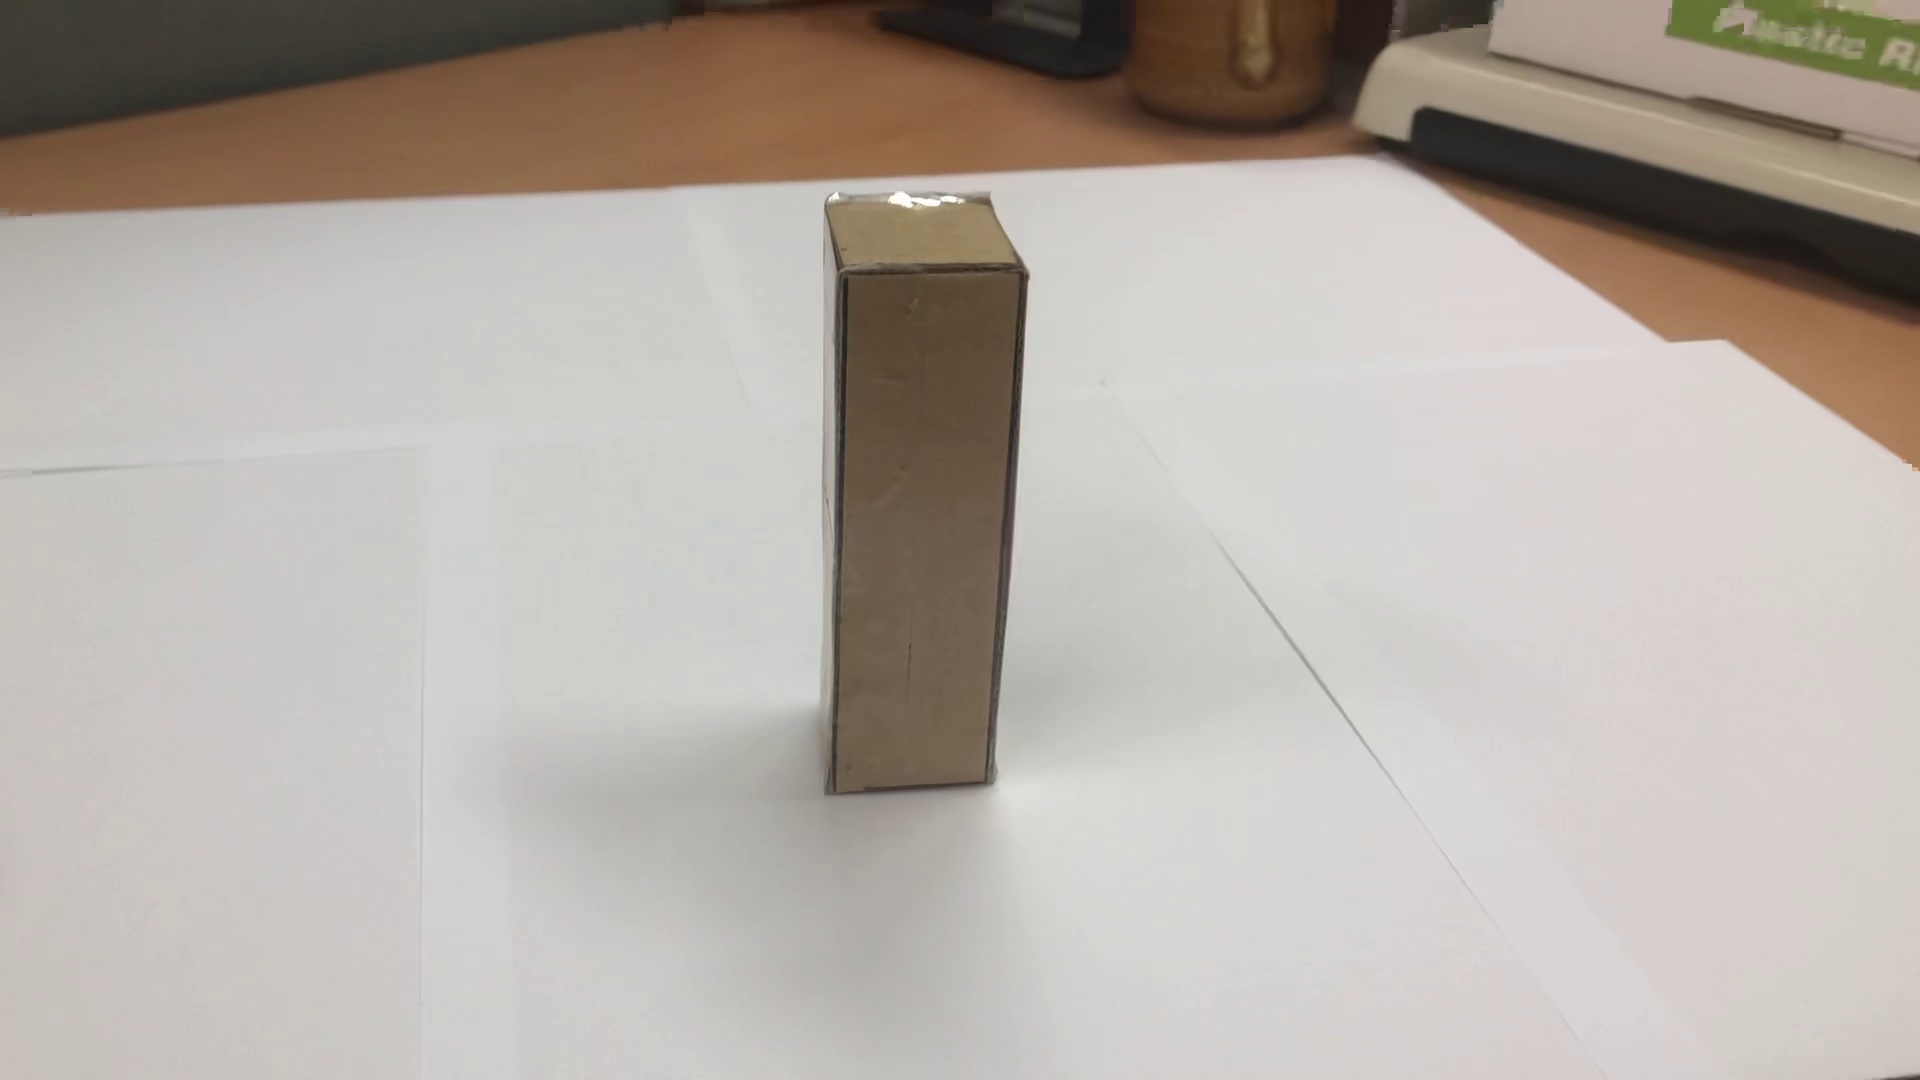box: (800, 181, 1038, 823)
